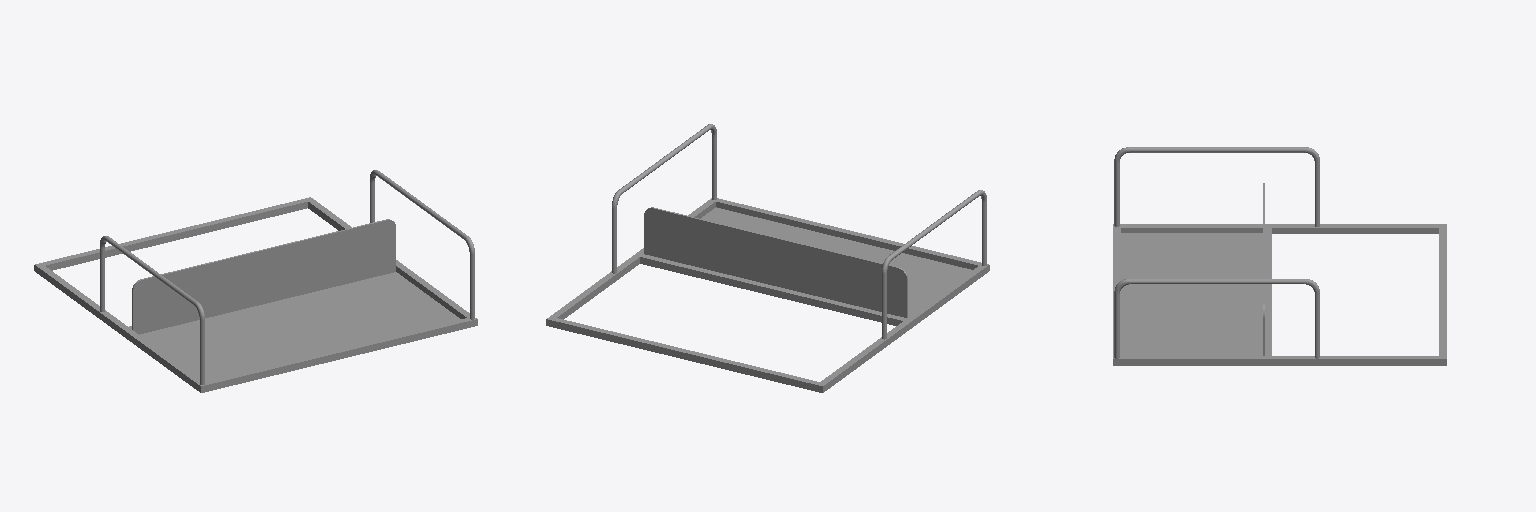
Rendered from DriverStationMain.obj.
The picture shows the model from 3 angles: view 1: azimuth 30°, elevation 25°; view 2: azimuth 150°, elevation 25°; view 3: azimuth 270°, elevation 25°; orthographic projection.
Visible parts, largest first — view 1: DriverStationMain; view 2: DriverStationMain; view 3: DriverStationMain.
Part boxes in pixels (left/top/right/bottom): DriverStationMain: left=34, top=170, right=477, bottom=392; DriverStationMain: left=546, top=124, right=989, bottom=392; DriverStationMain: left=1113, top=147, right=1446, bottom=365.
Size of the model in its own units: 1873 by 552 by 1956.